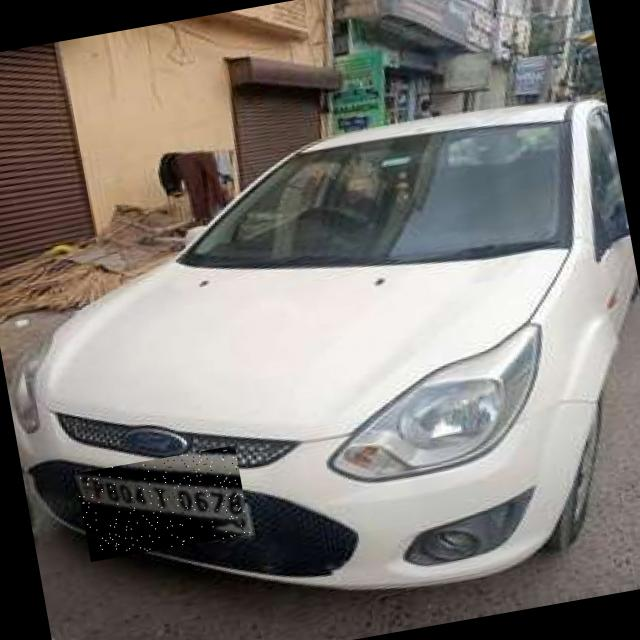Plate: (76, 446, 251, 563)
